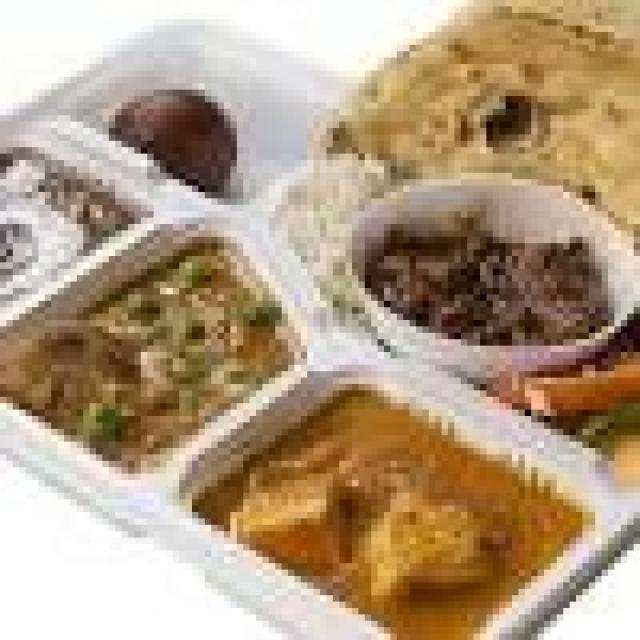pickle: (93, 83, 247, 189)
roti: (391, 222, 621, 373)
sambar-rasam: (97, 82, 249, 188)
